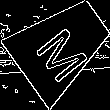M_NE: (29, 12, 94, 80)
